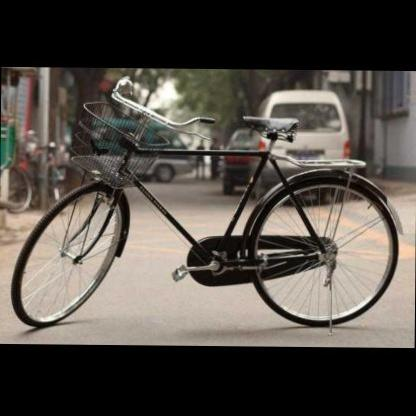Bicycle: (2, 63, 415, 338)
